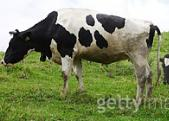cow: (0, 8, 162, 112), (160, 53, 169, 85)
